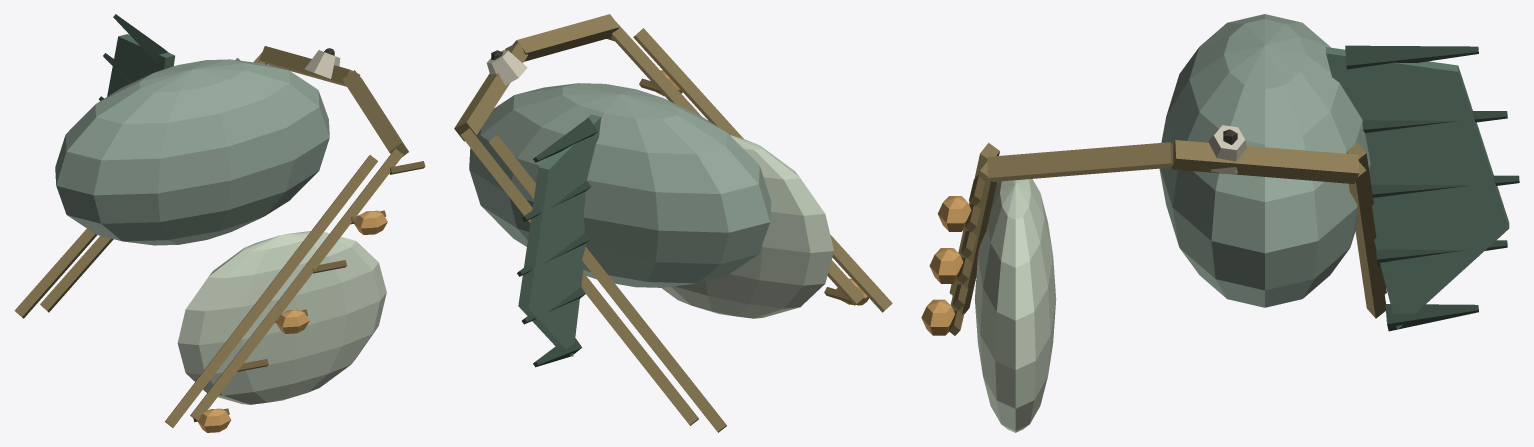
Rendered from whiskerfolk_chest.glb.
3 renders of one model, left to right at view 1: azimuth 30°, elevation 25°; view 2: azimuth 150°, elevation 25°; view 3: azimuth 270°, elevation 25°, orthographic. The views are drawn at different scales.
Visible parts, largest first — view 1: whiskerfolk_chest; view 2: whiskerfolk_chest; view 3: whiskerfolk_chest.
Part boxes in pixels (x1,y1,x2,y2): whiskerfolk_chest: [14, 14, 425, 432]; whiskerfolk_chest: [454, 14, 892, 432]; whiskerfolk_chest: [921, 14, 1519, 432].
Bounding box in the file's own units: 0.8633 × 0.8012 × 1.18.
